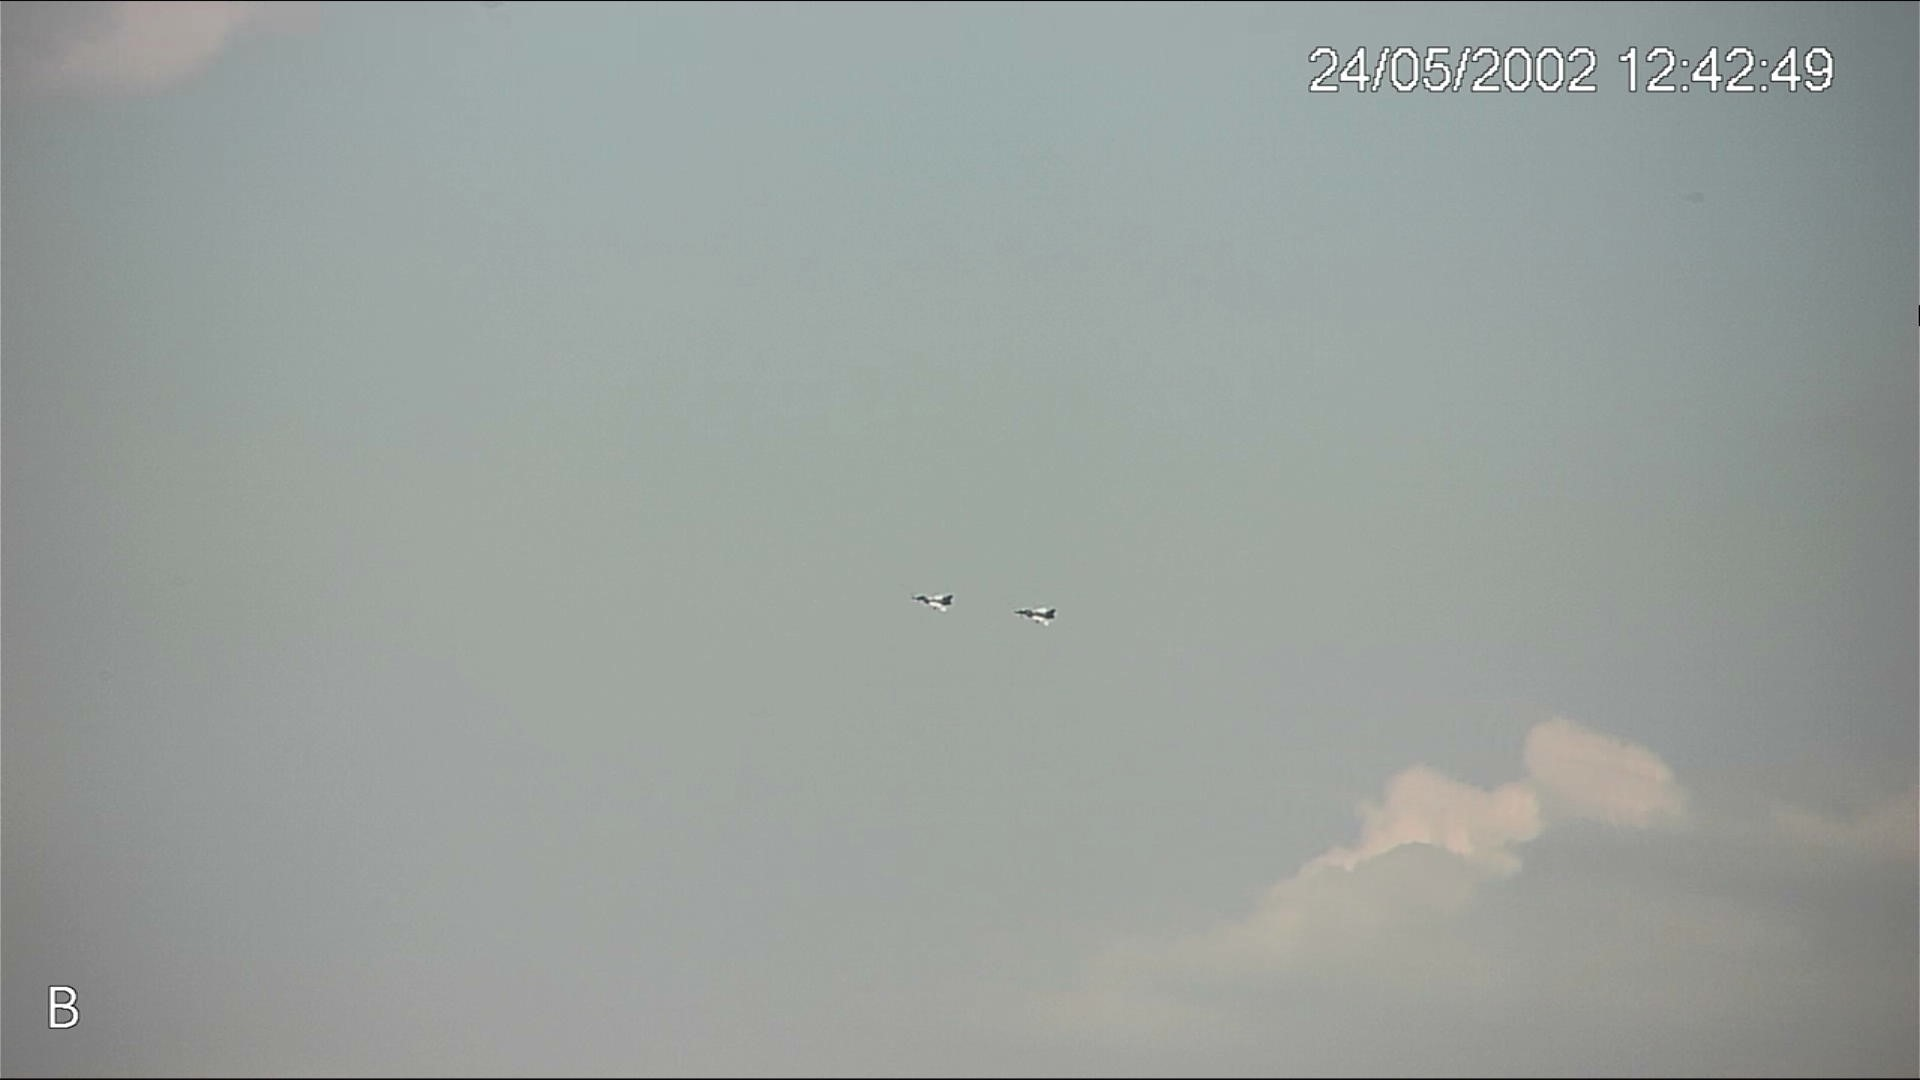SU_30: (1011, 607, 1058, 629), (913, 591, 953, 616)
